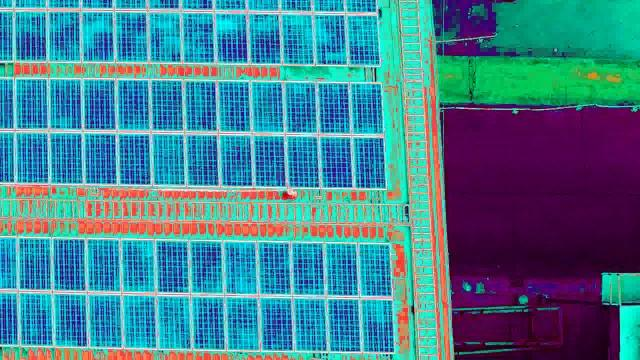semi: (12, 8, 48, 65), (47, 7, 83, 64), (79, 8, 115, 65), (111, 7, 147, 64), (145, 8, 181, 65), (181, 8, 217, 65), (212, 9, 248, 66), (246, 11, 282, 68), (278, 11, 314, 68), (313, 12, 349, 69), (347, 11, 383, 68), (351, 79, 387, 136), (317, 77, 353, 134), (281, 80, 317, 137), (247, 76, 283, 133), (213, 78, 249, 135), (180, 78, 216, 135), (147, 76, 183, 133), (115, 74, 151, 131), (82, 75, 118, 132), (49, 75, 85, 132), (14, 74, 50, 131), (14, 129, 50, 186), (48, 129, 84, 186), (80, 130, 116, 187), (116, 131, 152, 188), (149, 133, 185, 190), (183, 131, 219, 188), (218, 131, 254, 188), (247, 130, 283, 187), (286, 133, 322, 190), (321, 134, 357, 191), (353, 133, 389, 190), (358, 243, 394, 300), (325, 239, 361, 296), (290, 239, 326, 296), (255, 240, 291, 297), (220, 238, 256, 295), (185, 237, 221, 294), (154, 240, 190, 297), (118, 238, 154, 295), (88, 235, 124, 292), (52, 236, 88, 293), (16, 235, 52, 292), (17, 290, 53, 347), (51, 289, 87, 346), (85, 293, 121, 350), (122, 291, 158, 348), (152, 294, 188, 351), (186, 294, 222, 351), (223, 295, 259, 352), (253, 296, 289, 353), (289, 296, 325, 353), (323, 295, 359, 352), (359, 293, 395, 350)
